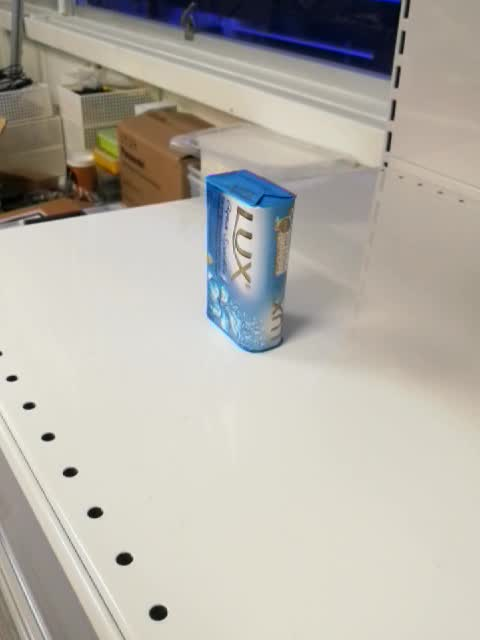soap: (202, 167, 298, 357)
